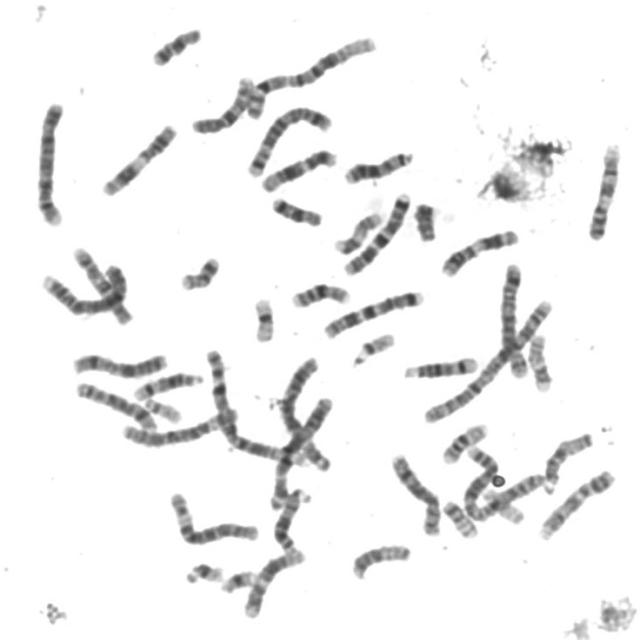A1: (198, 341, 337, 471), (239, 29, 381, 121)
A2: (418, 292, 558, 425), (460, 440, 534, 524)
A3: (264, 390, 336, 512), (276, 352, 334, 472)
B4: (35, 256, 131, 318), (29, 95, 68, 228)
B5: (242, 99, 336, 178), (496, 256, 531, 379)
C10: (68, 240, 135, 326), (186, 69, 258, 136)
C11: (95, 116, 180, 198), (437, 222, 522, 279)
C12: (237, 542, 309, 620), (257, 142, 340, 194)
C6: (115, 402, 244, 449), (164, 486, 262, 547)
C7: (338, 187, 415, 276), (318, 283, 426, 340)
C8: (385, 447, 445, 538), (71, 375, 161, 433)
C9: (533, 463, 617, 542), (583, 137, 624, 242)
D13: (339, 144, 418, 186), (269, 482, 314, 555)
D14: (129, 366, 206, 402), (399, 350, 481, 381)
D15: (538, 426, 597, 496), (346, 538, 414, 581)
E16: (436, 417, 492, 466), (286, 276, 354, 310)
E17: (329, 205, 386, 256), (524, 327, 556, 393)
E18: (146, 20, 204, 68), (266, 190, 325, 228)
F19: (478, 482, 527, 526), (247, 291, 278, 344)
F20: (437, 494, 482, 539), (175, 250, 223, 292)
G21: (180, 556, 226, 586), (215, 564, 259, 595)
G22: (347, 325, 398, 368), (137, 392, 185, 424)
X: (67, 346, 170, 379)
Y: (409, 196, 441, 243)
